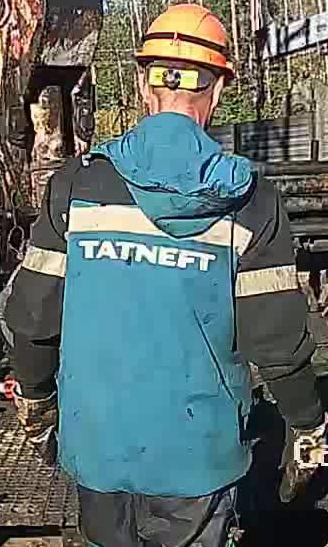gloves: (279, 406, 328, 508), (11, 377, 68, 464)
helmet: (131, 4, 236, 89)
vest: (0, 148, 320, 420)
